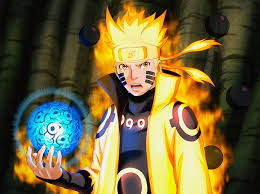Naruto: (108, 20, 165, 97)
